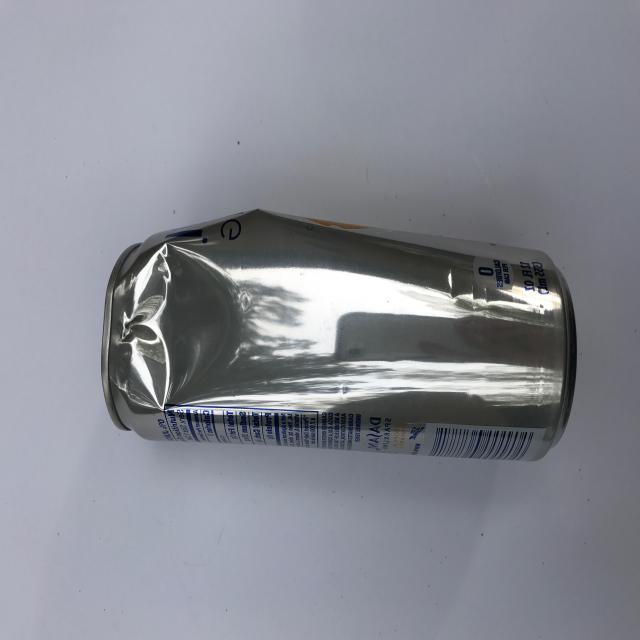metal: (100, 207, 578, 462)
